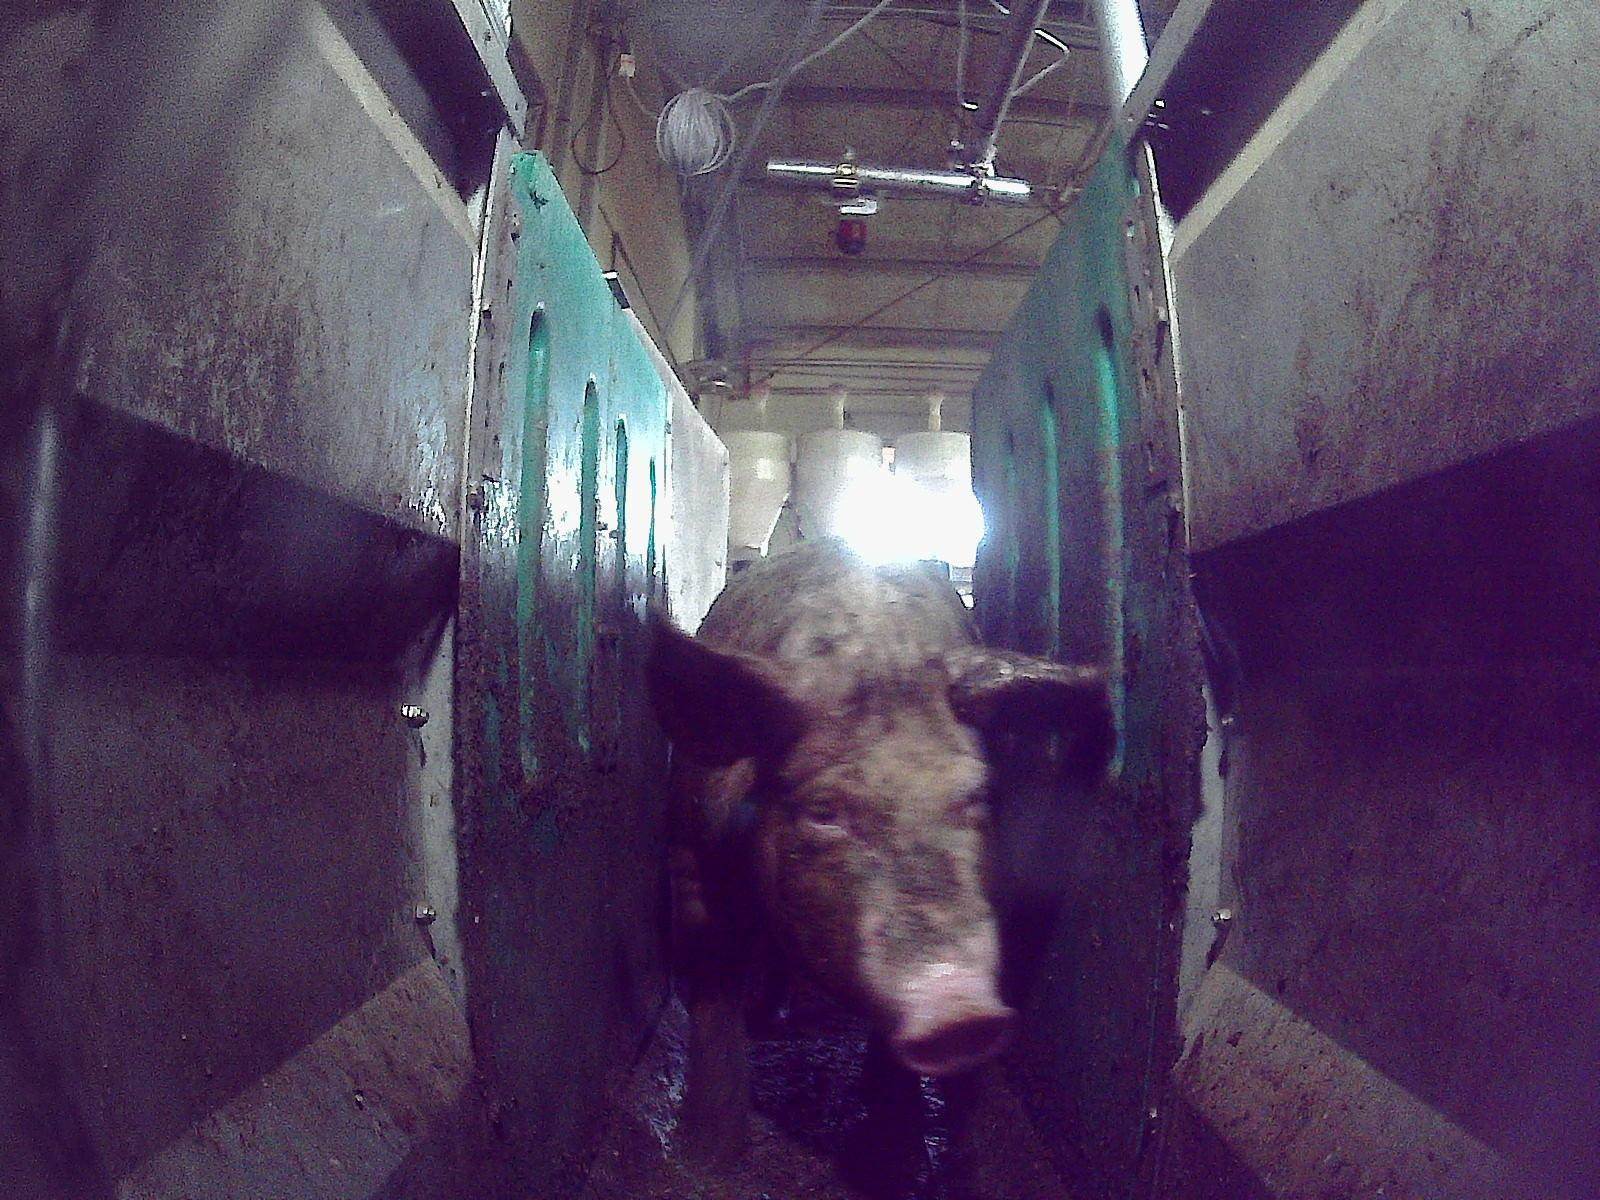Face: (728, 655, 1016, 1078)
